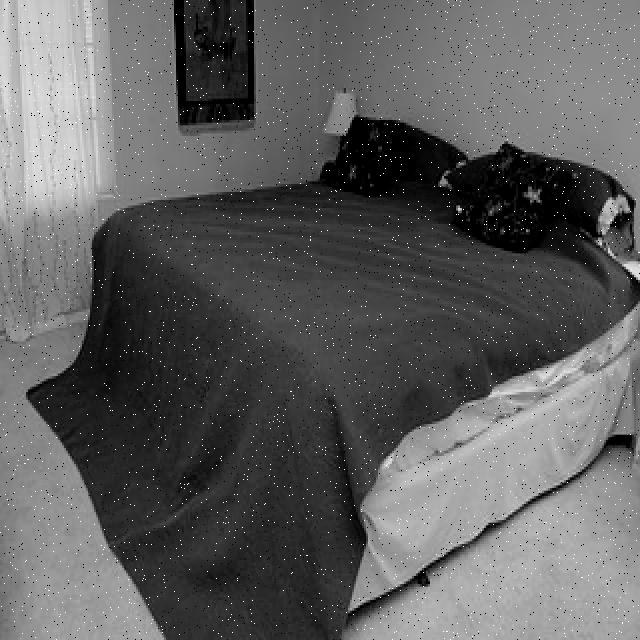bed: (105, 122, 634, 588)
